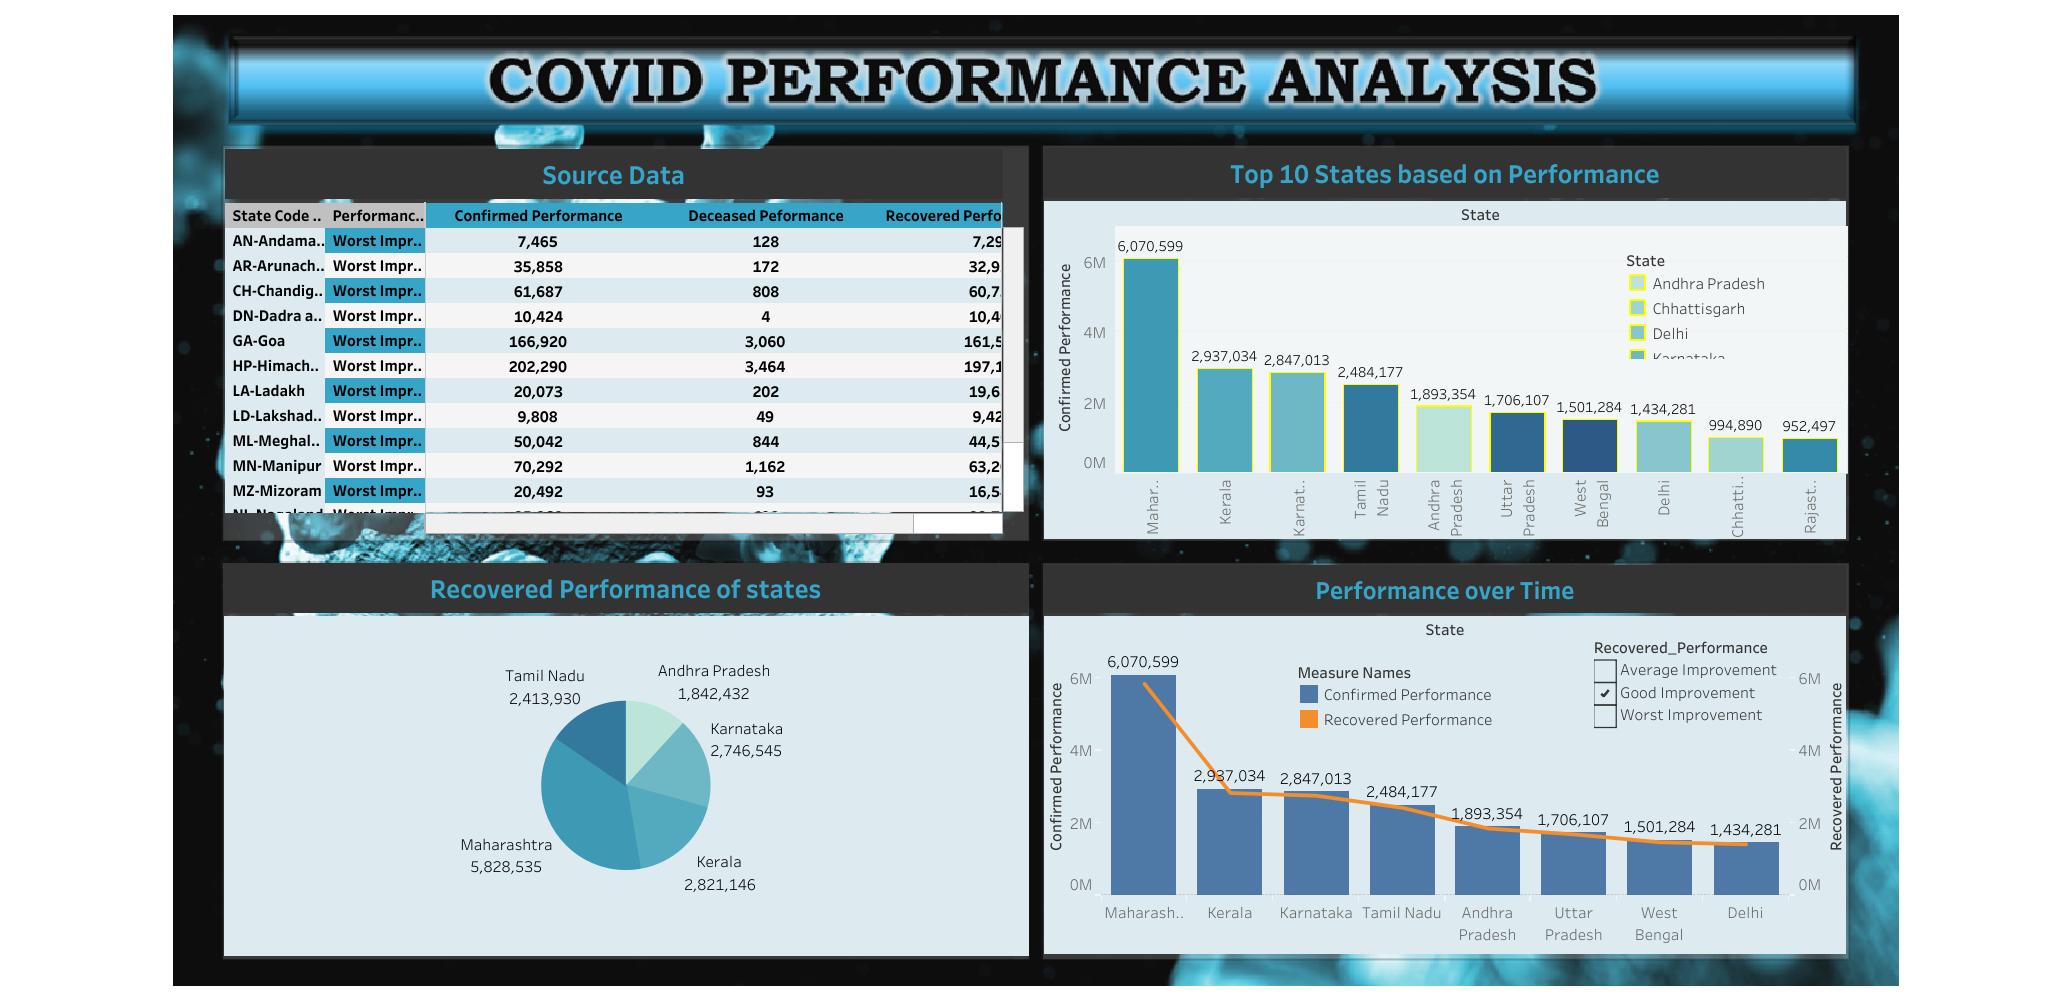

The page's visual inventory and layout, read from the dashboard file:
{"tool":"tableau","page":{"name":"Covid -19 ","canvas":[1000,1000],"units":"permille","ordinal":0},"visuals":[{"type":"image","param":"Image/Project_Covid-19_Dashboard_Background_1.png","box":[4.8,10,990.3,980]},{"type":"worksheet","title":"Top 10 States - Performance","mark":"Bar","rows":["Confirmed Performance"],"cols":["State"],"box":[503.9,147.3,387.4,390.8]},{"type":"worksheet","title":"Source Data","mark":"Automatic","rows":["Calculation_812899756266119168"],"box":[108.6,148.6,386.2,385.8]},{"type":"legend","title":"Top 10 States - Performance","param":"[federated.10zdnk00cituoj119dcrx1hzm80x].[none:State:nk]","box":[784.7,246.1,82,111.8]},{"type":"worksheet","title":"Top 5 States - Recovered","mark":"Pie","box":[108,561.8,388.1,392]},{"type":"worksheet","title":"Performance over Time","mark":"Automatic","rows":["Confirmed Performance","Recovered Performance"],"cols":["State"],"box":[503.9,564.3,387.4,388.3]},{"type":"filter","title":"Performance over Time","param":"[federated.10zdnk00cituoj119dcrx1hzm80x].[usr:Calculation_241787028653637633:nk]","box":[769.5,633,93.5,102.4]},{"type":"legend","title":"Performance over Time","param":"[federated.10zdnk00cituoj119dcrx1hzm80x].[:Measure Names]","box":[625.8,656.7,114.7,82.4]}]}

Visuals, with their boxes on the dashboard's canvas, which has no fixed pixel size, in thousandths of its width and height (x1, y1, x2, y2). These are canvas units, not pixel positions in the 2070x1000 screenshot, which may show the page scaled, cropped or inside an application window:
image: x1=5, y1=10, x2=995, y2=990
"Top 10 States - Performance" worksheet (Bar marks): x1=504, y1=147, x2=891, y2=538
"Source Data" worksheet: x1=109, y1=149, x2=495, y2=534
"Top 10 States - Performance" legend: x1=785, y1=246, x2=867, y2=358
"Top 5 States - Recovered" worksheet (Pie marks): x1=108, y1=562, x2=496, y2=954
"Performance over Time" worksheet: x1=504, y1=564, x2=891, y2=953
"Performance over Time" filter: x1=770, y1=633, x2=863, y2=735
"Performance over Time" legend: x1=626, y1=657, x2=740, y2=739
